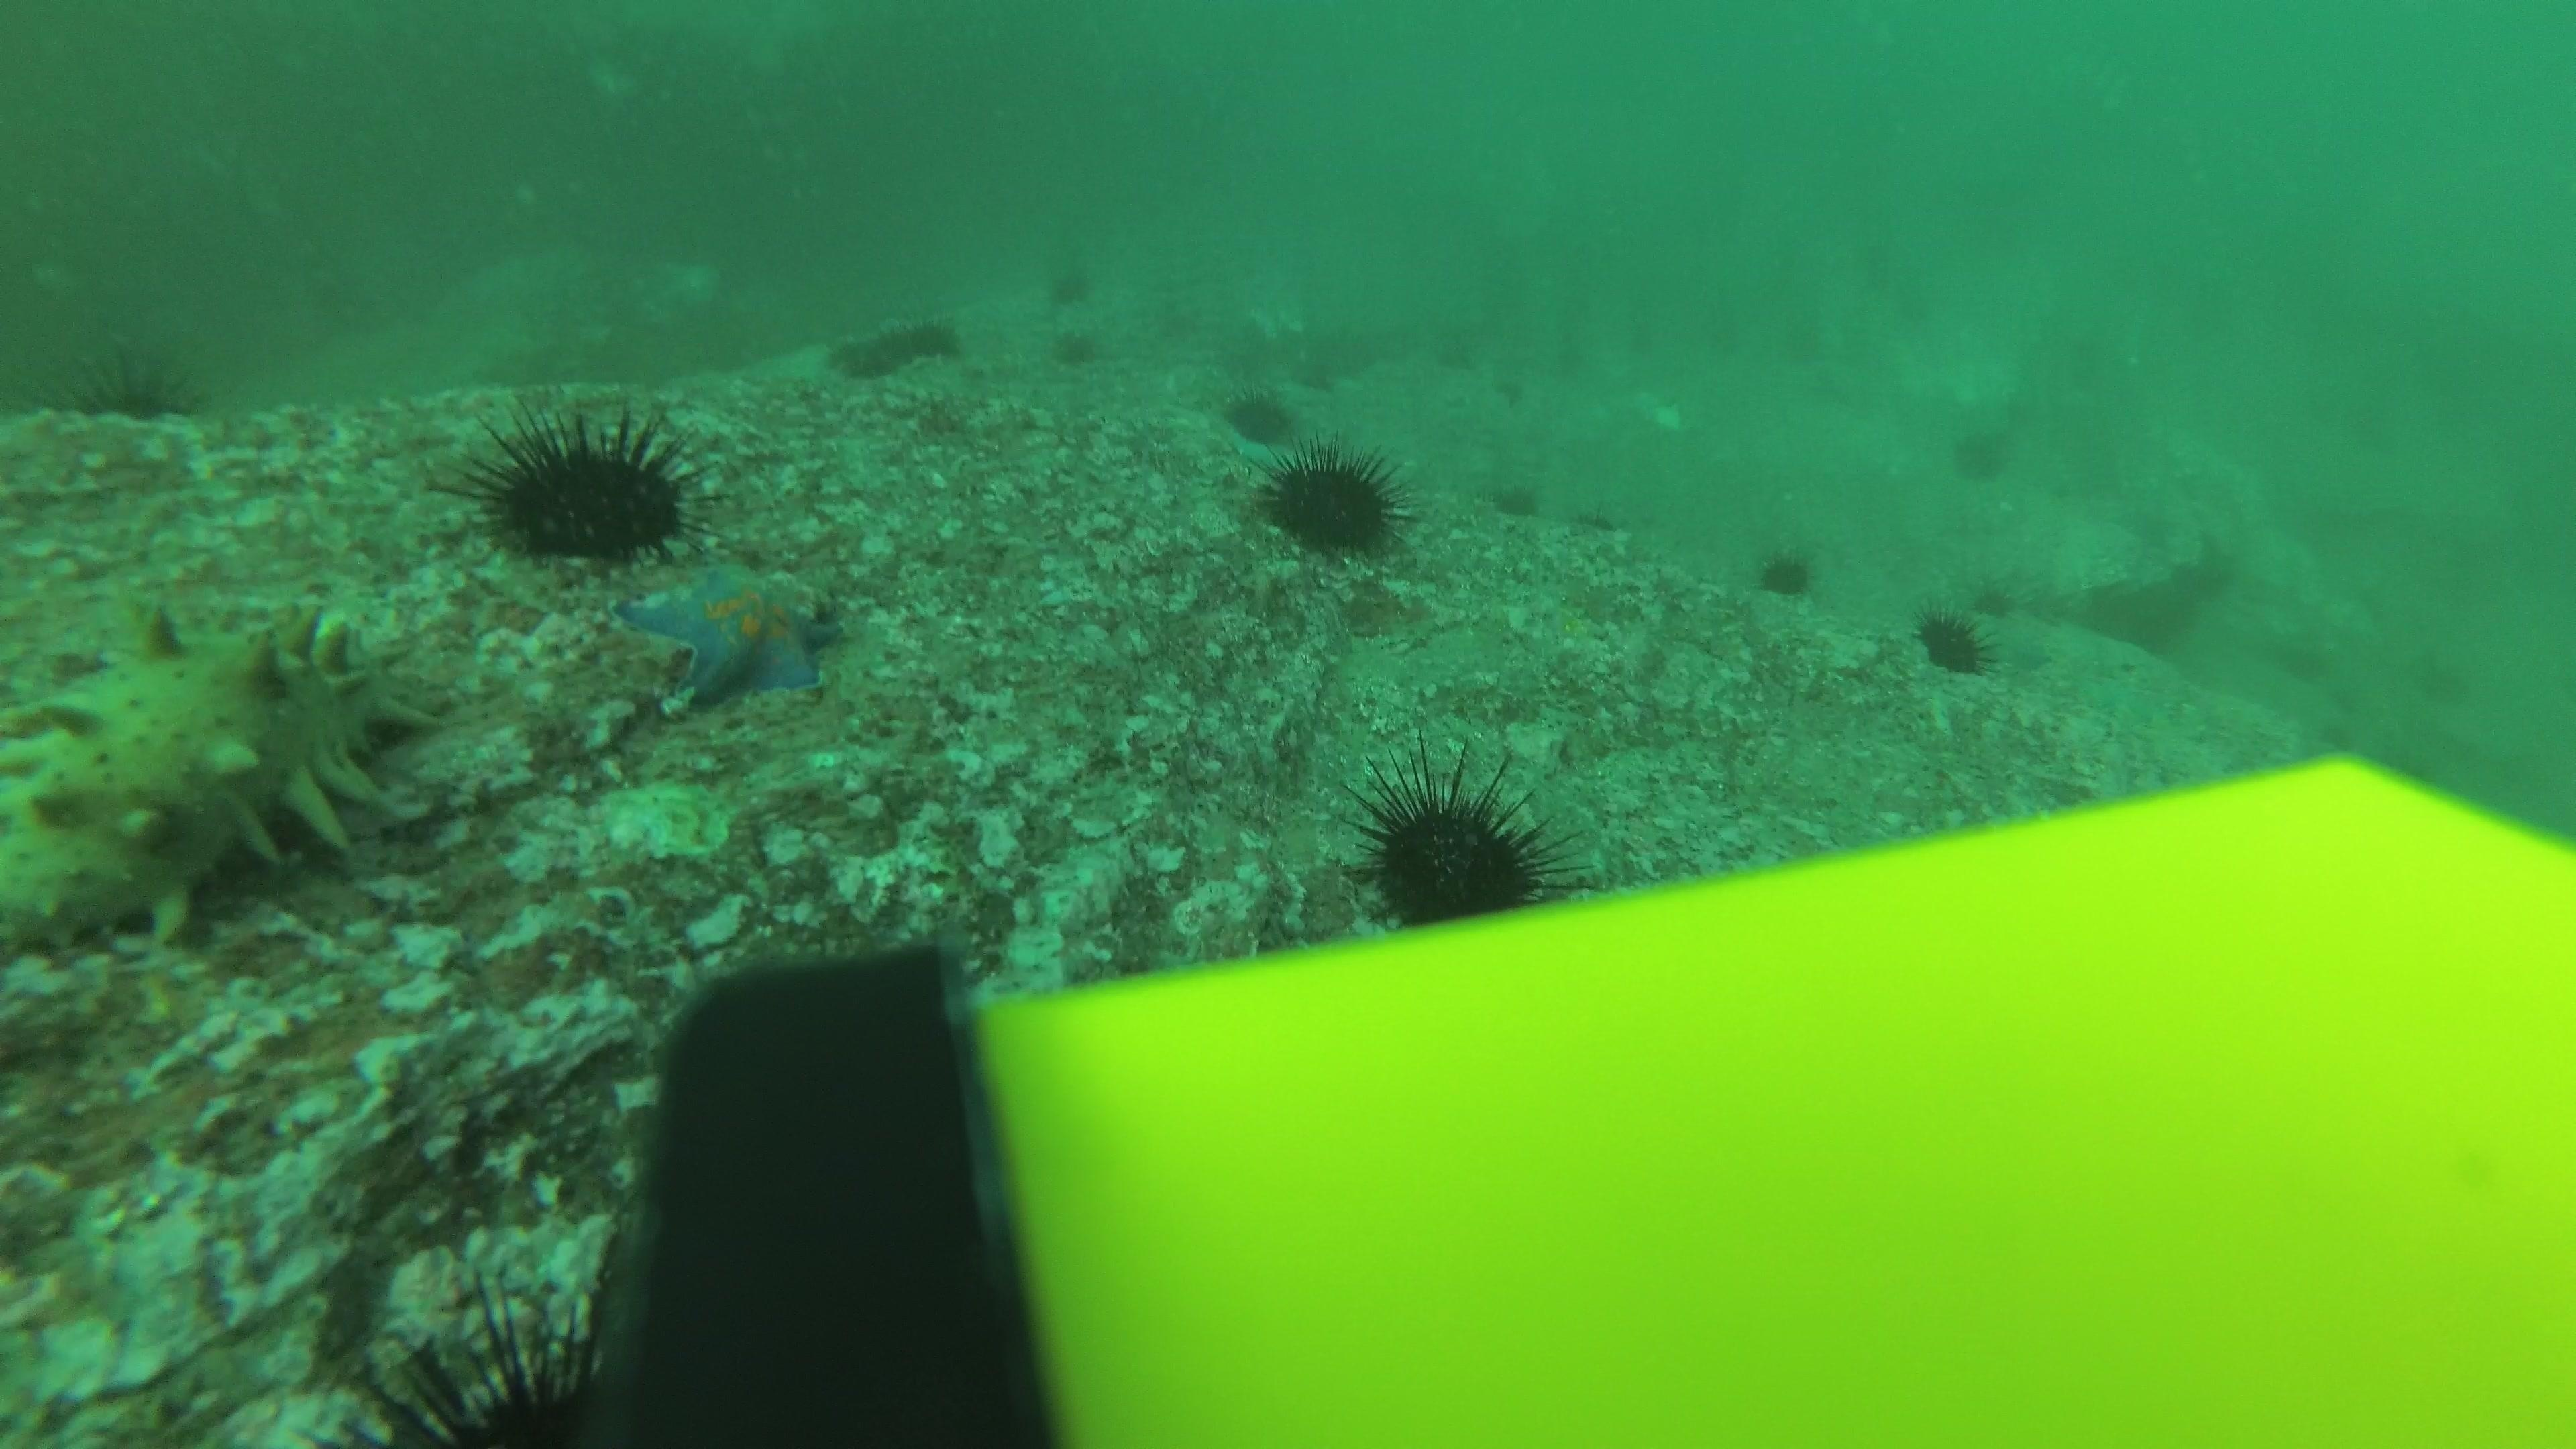echinus: (359, 1281, 640, 1440), (464, 402, 702, 570), (1348, 752, 1569, 922), (1260, 441, 1405, 559), (81, 345, 195, 428), (1913, 603, 1996, 676), (1560, 483, 1628, 550), (1946, 419, 2015, 485), (1877, 285, 1946, 350), (1771, 308, 1840, 373), (1281, 338, 1350, 403), (1223, 384, 1295, 446), (1844, 228, 1911, 294), (1695, 301, 1762, 366), (1614, 306, 1681, 372), (1532, 304, 1599, 370), (1461, 363, 1529, 428), (1407, 327, 1474, 393), (1753, 543, 1817, 600), (1044, 258, 1097, 308), (1486, 476, 1541, 522), (1049, 326, 1102, 372), (915, 317, 966, 361), (844, 338, 897, 380), (867, 326, 920, 368), (816, 333, 867, 375)
holothurian: (2, 596, 435, 952)
starfish: (614, 557, 842, 711)
